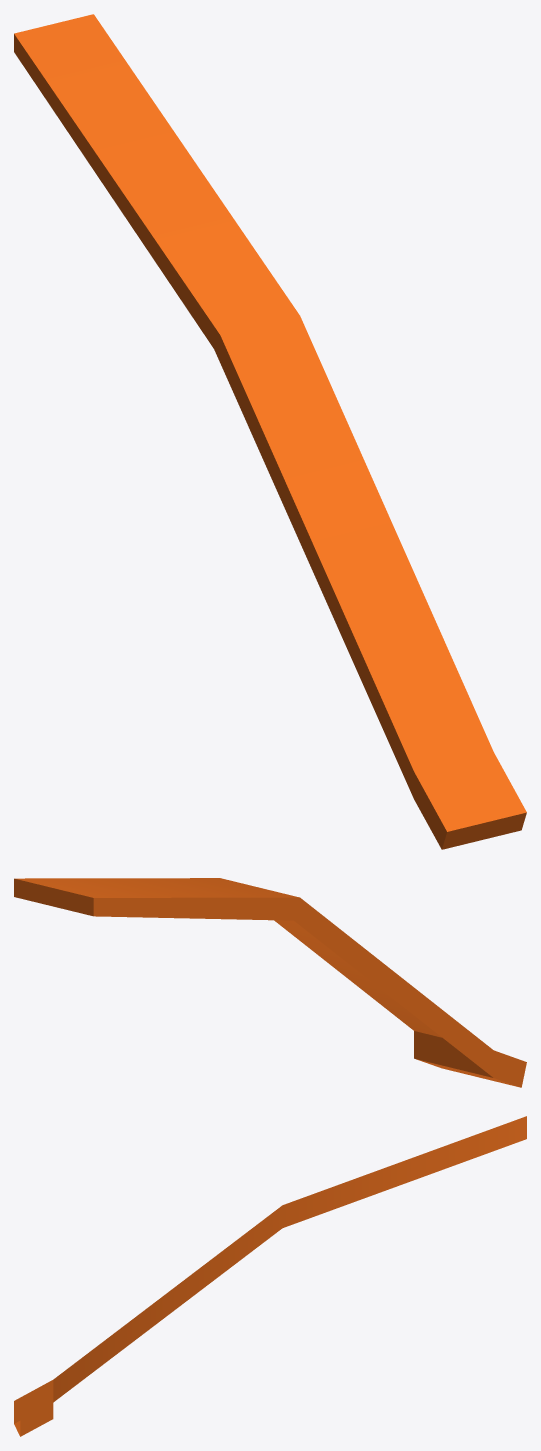
Rendered from ToitFermeFin.fbx.
3 renders of one model, top to bottom at view 1: azimuth 30°, elevation 25°; view 2: azimuth 150°, elevation 25°; view 3: azimuth 270°, elevation 25°, orthographic. The views are drawn at different scales.
Visible parts, largest first — view 1: ToitFermeFin; view 2: ToitFermeFin; view 3: ToitFermeFin.
Part boxes in pixels (left/top/right/bottom): ToitFermeFin: left=14, top=14, right=526, bottom=849; ToitFermeFin: left=14, top=878, right=526, bottom=1087; ToitFermeFin: left=14, top=1116, right=526, bottom=1436.
Bounding box in the file's own units: 138 × 833 × 1300.
